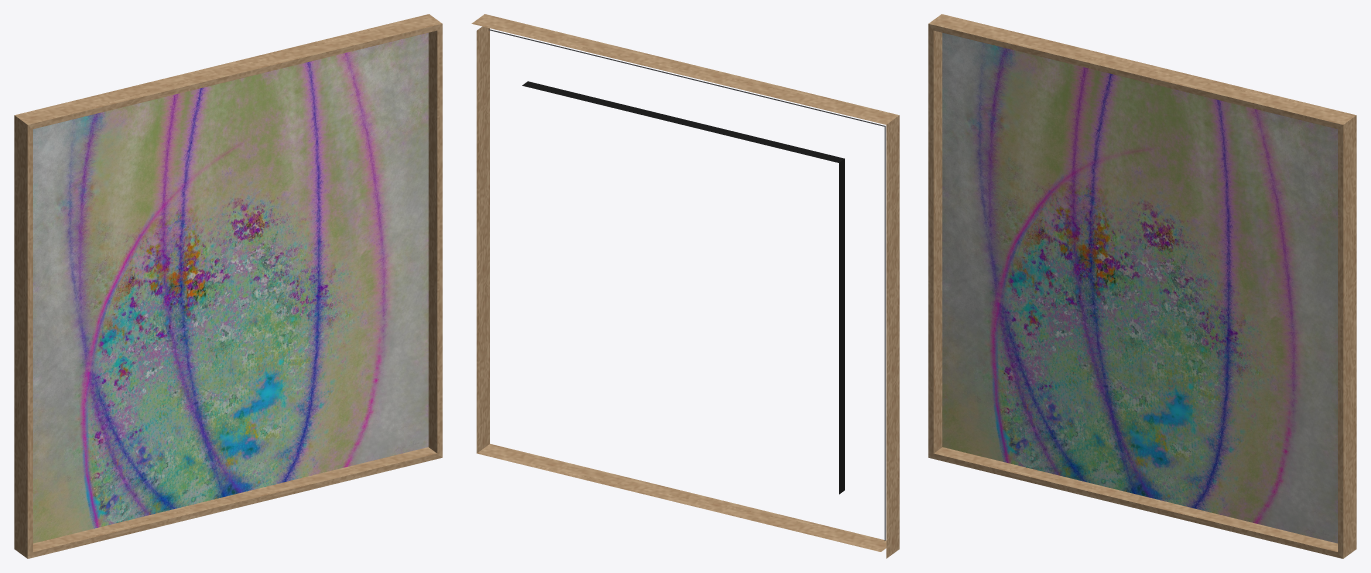
File: va219_moyen_caisse-chene.glb
3 renders of one model, left to right at view 1: azimuth 30°, elevation 25°; view 2: azimuth 150°, elevation 25°; view 3: azimuth 330°, elevation 25°, orthographic.
Visible parts, largest first — view 1: va219_moyen_caisse-chene; view 2: va219_moyen_caisse-chene; view 3: va219_moyen_caisse-chene.
Part boxes in pixels (box(x1,y1,x2,y2)): va219_moyen_caisse-chene: box(14, 14, 442, 558); va219_moyen_caisse-chene: box(471, 14, 899, 558); va219_moyen_caisse-chene: box(928, 14, 1356, 558).
Size of the model in its own units: 0.628 by 0.628 by 0.035.
4 materials, 2 textured.
